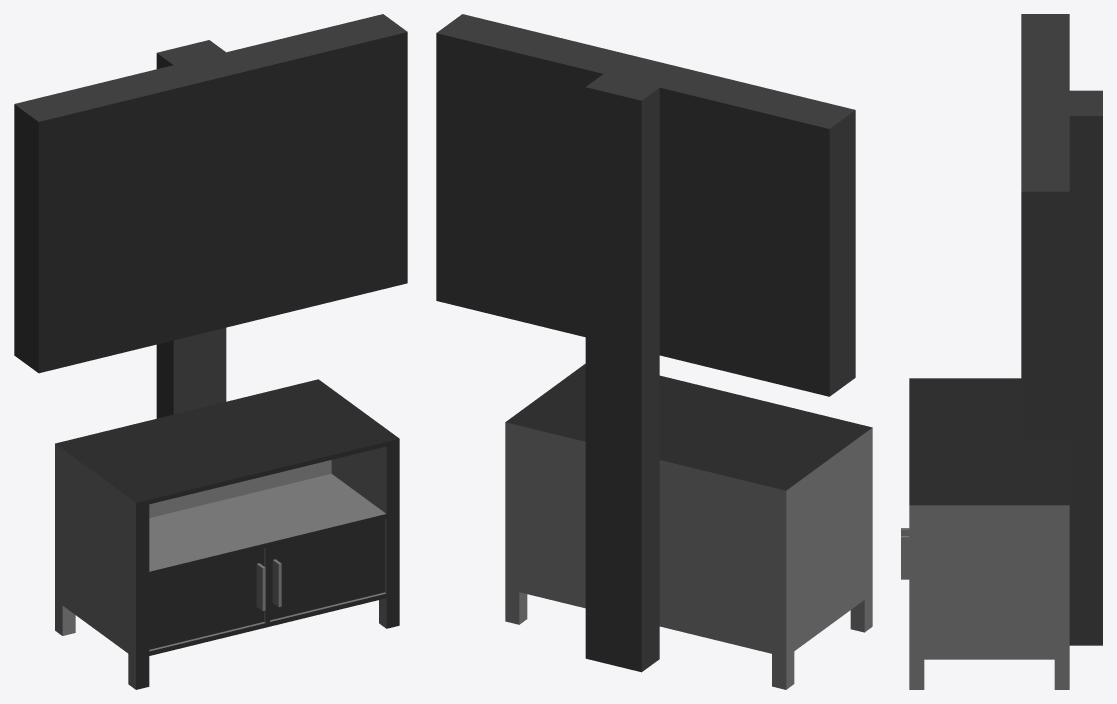
The model's file is tv.min.dae.
3 views of the same model, side by side, from view 1: azimuth 30°, elevation 25°; view 2: azimuth 150°, elevation 25°; view 3: azimuth 270°, elevation 25° (orthographic). The views are drawn at different scales.
Visible parts, largest first — view 1: SketchUp (×7); view 2: SketchUp (×3); view 3: SketchUp (×4).
Part boxes in pixels (<box>): SketchUp (×7): <box>14,14,407,689</box>; SketchUp (×3): <box>436,14,872,689</box>; SketchUp (×4): <box>901,14,1102,689</box>.
Size of the model in its own units: 49.61 by 23.82 by 68.9.
4 materials, 3 textured.
